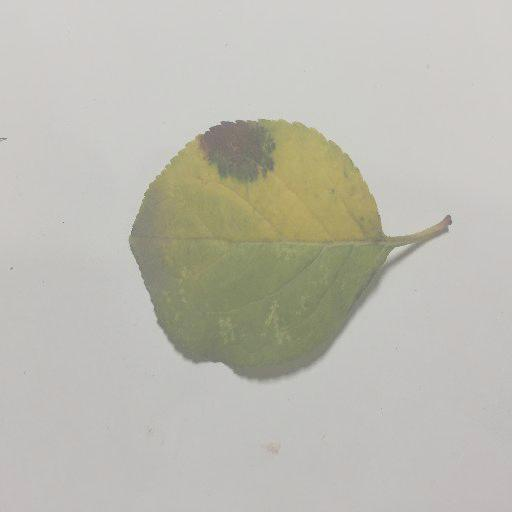Brown_Spot: (202, 128, 275, 180)
